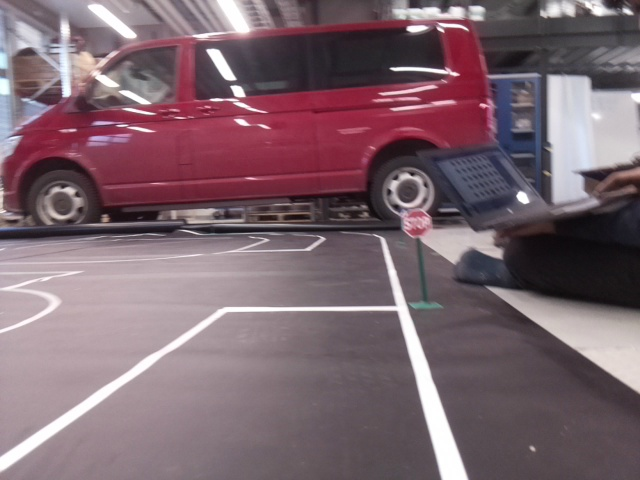Stop: (401, 209, 432, 239)
